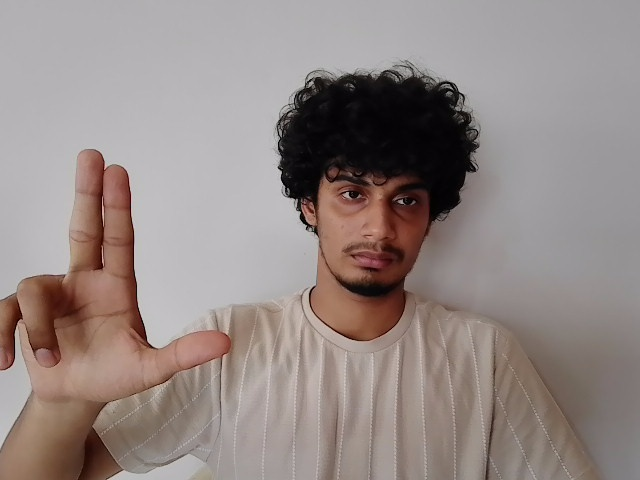no: (5, 152, 229, 396)
